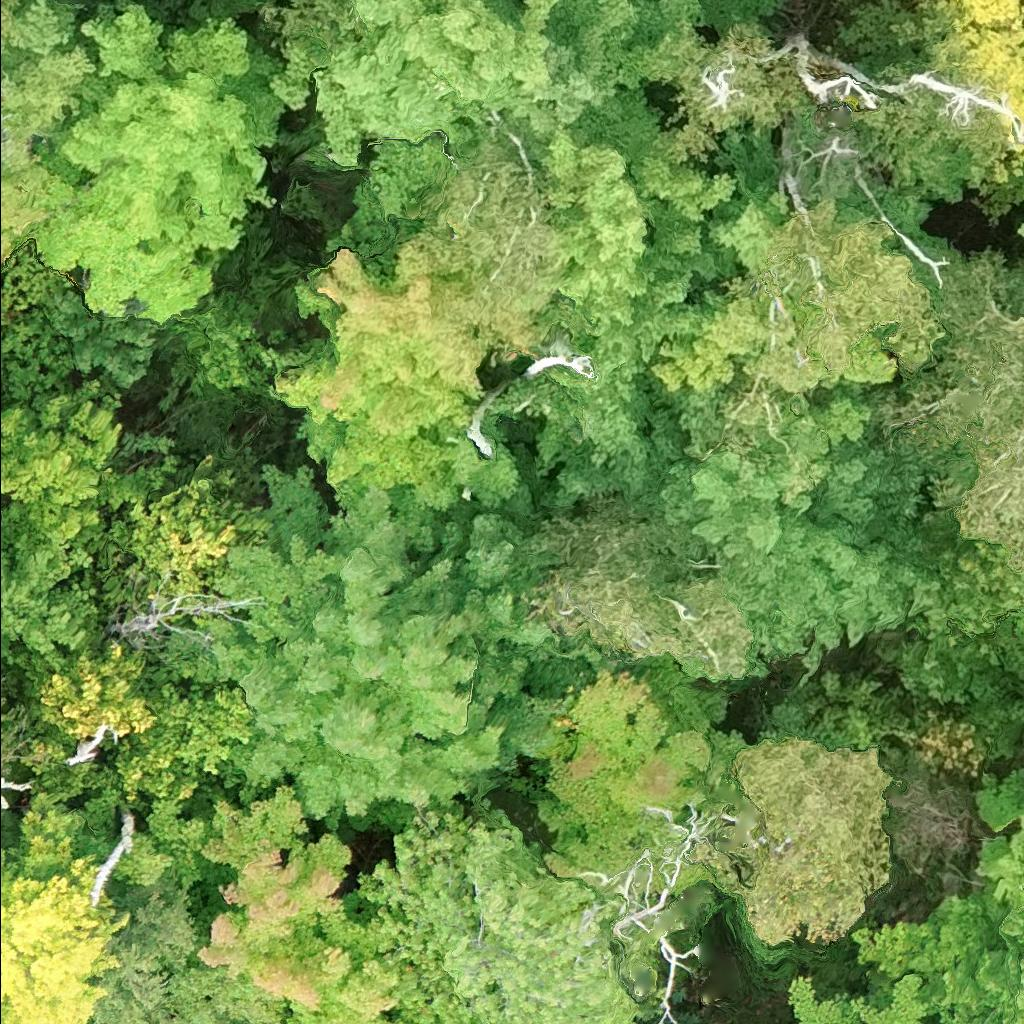crown: (183, 462, 573, 832), (503, 86, 787, 505), (628, 391, 945, 688), (269, 244, 540, 567), (30, 0, 287, 328), (310, 0, 779, 168), (344, 809, 640, 1023), (720, 198, 943, 446), (196, 782, 394, 1012), (849, 766, 1023, 1023), (892, 251, 1023, 566), (516, 506, 754, 679), (536, 667, 715, 879), (390, 141, 567, 355), (732, 738, 895, 947), (86, 868, 287, 1023), (0, 787, 132, 1023), (105, 454, 274, 593), (0, 378, 122, 570), (0, 39, 98, 263), (161, 284, 308, 398), (115, 682, 256, 800), (17, 636, 158, 742), (0, 512, 103, 656), (936, 0, 1023, 123), (117, 796, 219, 892), (284, 950, 410, 1023), (786, 971, 933, 1023), (265, 43, 325, 115), (0, 766, 36, 813), (991, 147, 1023, 189), (0, 754, 18, 763), (1015, 220, 1023, 240), (0, 670, 7, 684), (1021, 177, 1023, 194)
